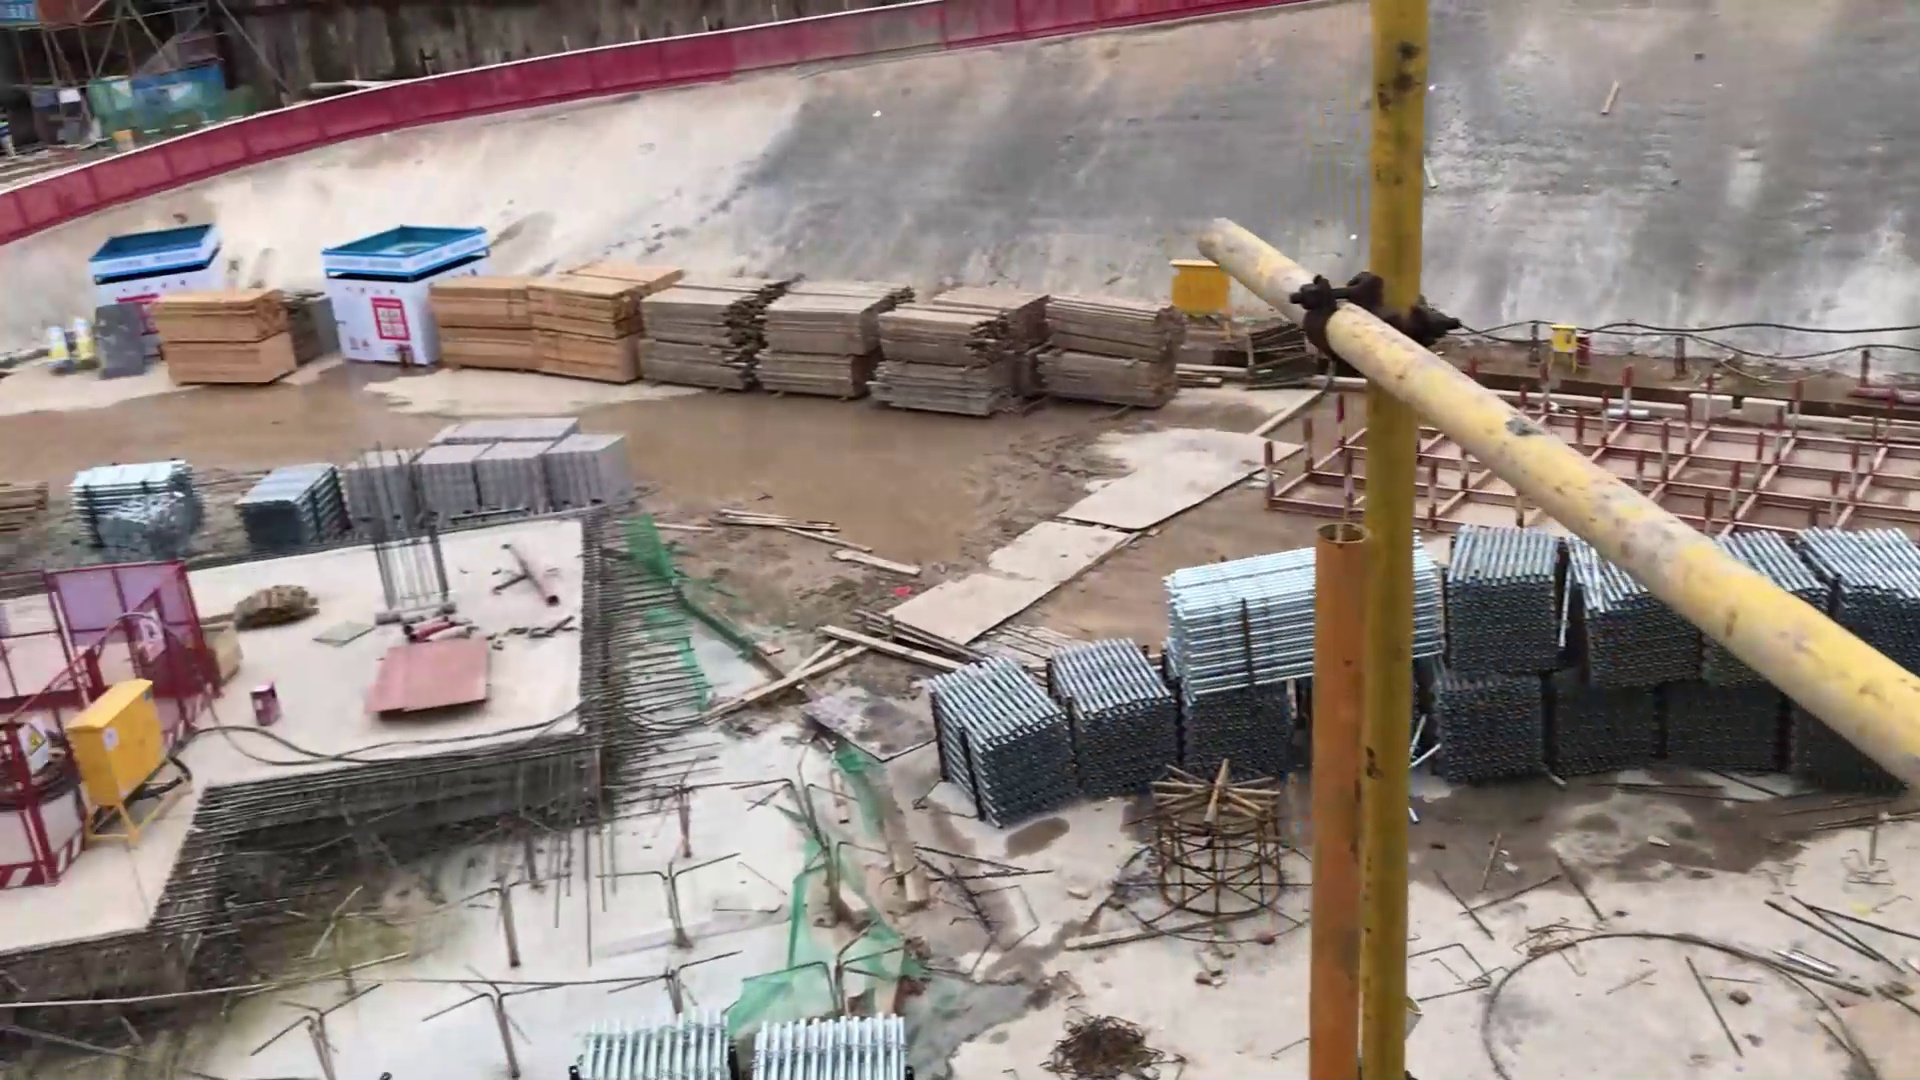board: (363, 630, 518, 735)
brick: (334, 440, 429, 545), (543, 429, 641, 520), (407, 439, 497, 531), (475, 431, 566, 518), (426, 409, 589, 451)
ebox: (63, 671, 170, 855), (1164, 252, 1244, 352), (1551, 322, 1578, 377)
scaffold: (922, 653, 1073, 839), (1443, 520, 1580, 682), (1163, 546, 1311, 683), (1052, 649, 1182, 793), (1580, 571, 1701, 705), (1429, 673, 1560, 783), (1812, 518, 1920, 651), (752, 1004, 920, 1080), (58, 459, 200, 531), (240, 458, 345, 555), (570, 1019, 723, 1080)
slogan: (367, 295, 421, 349)
wood: (433, 244, 655, 407), (877, 262, 1044, 422), (1029, 278, 1185, 407), (154, 284, 319, 402), (651, 262, 762, 405), (760, 264, 862, 400)
